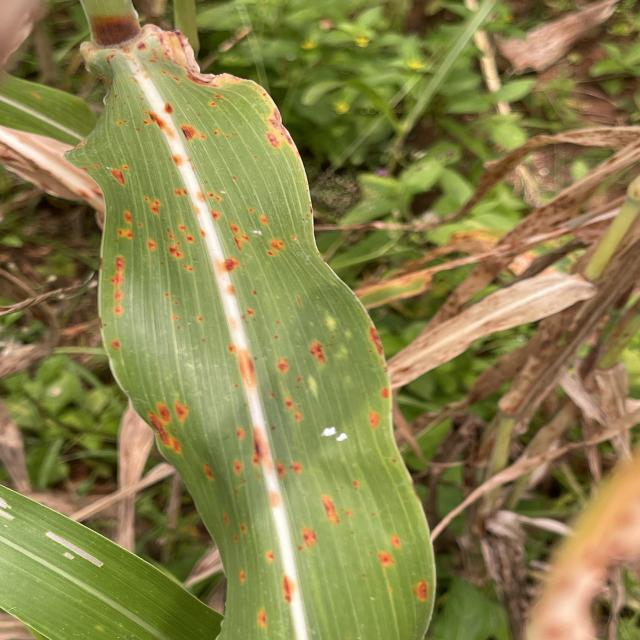millet_rust: (70, 13, 463, 640)
